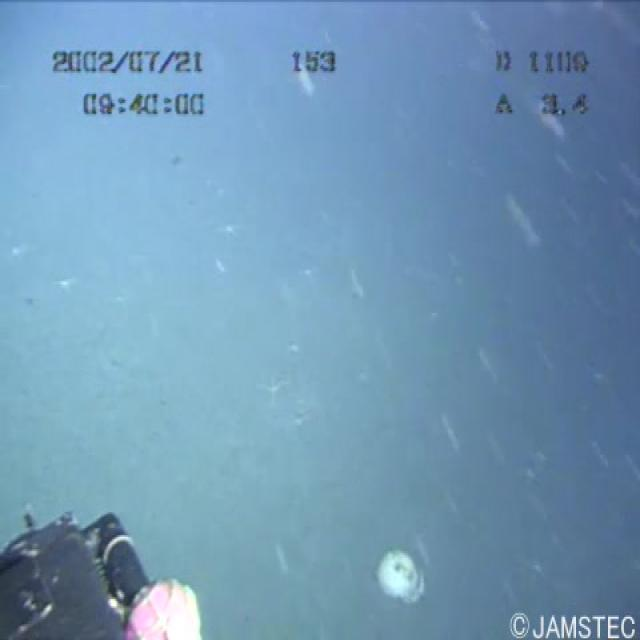plastic: (358, 539, 451, 622)
